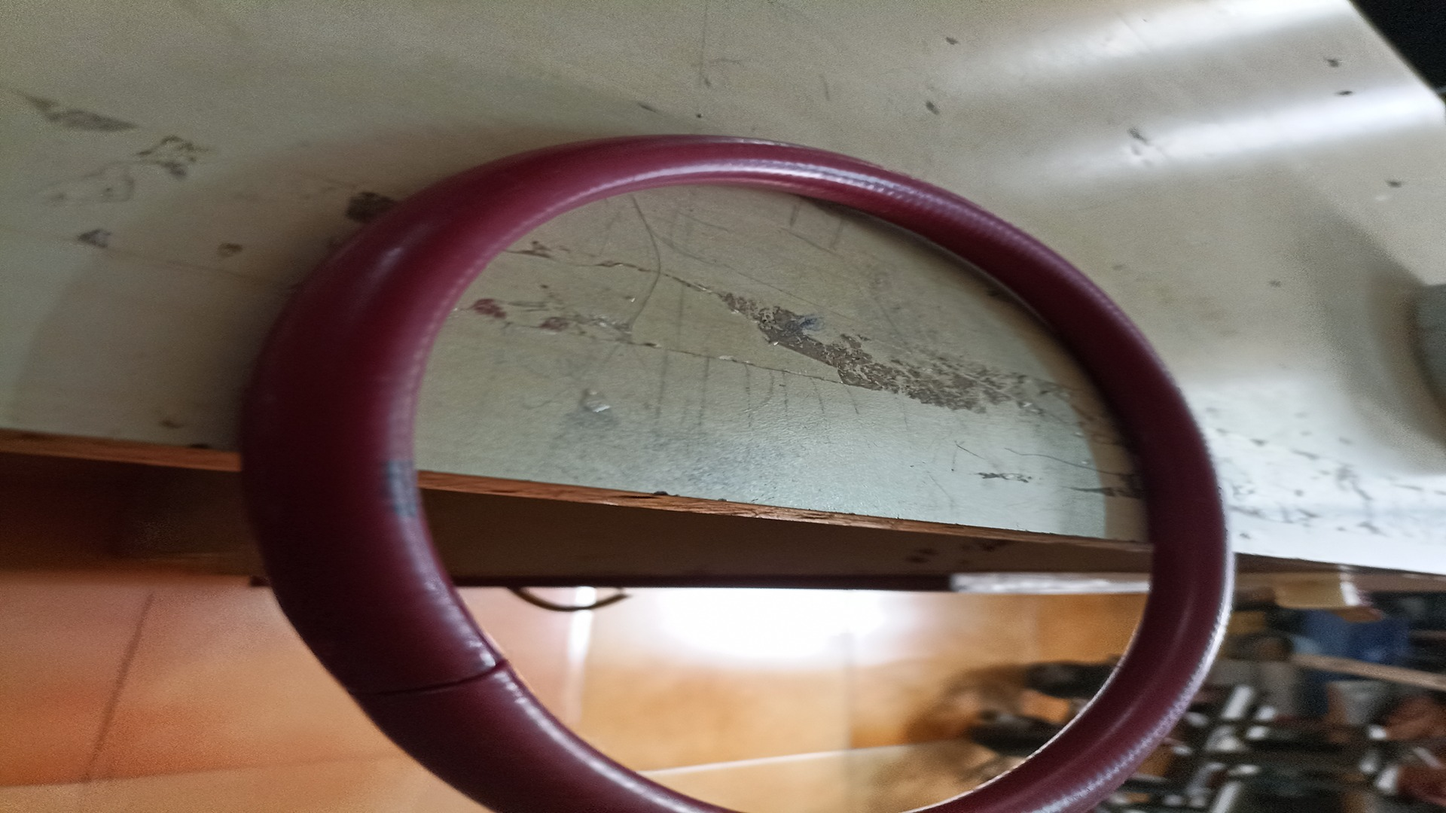Red ring: (251, 135, 1231, 808)
